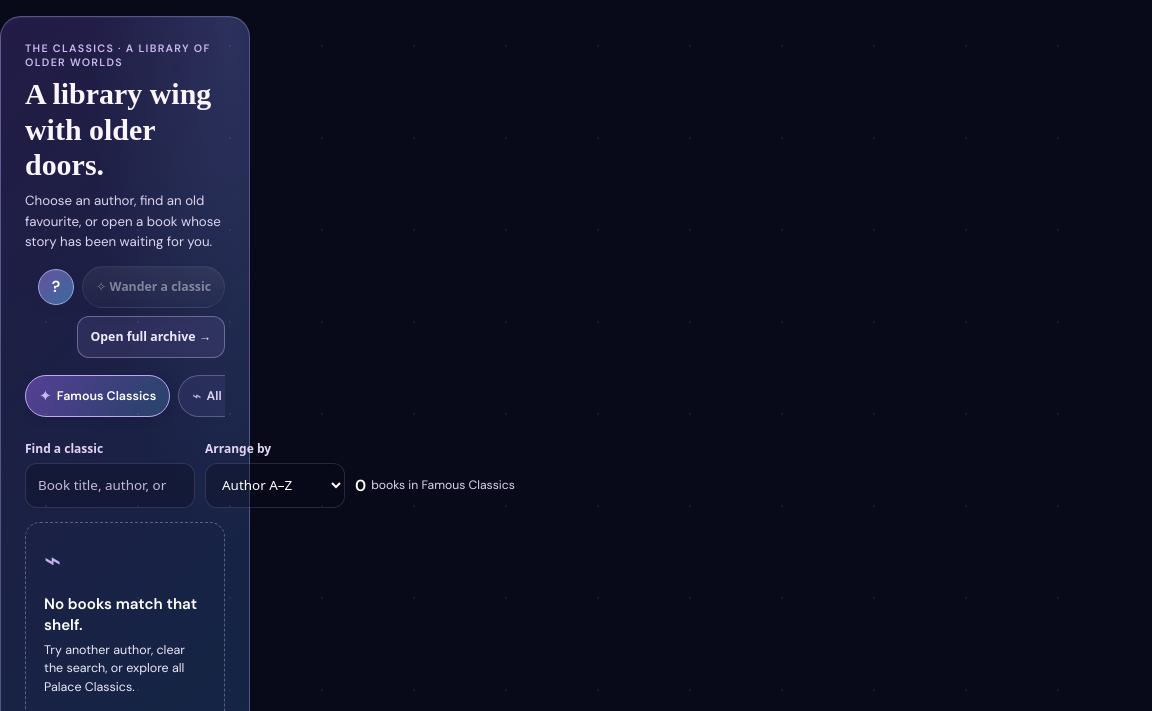
Test: Palace Classics library hall › keeps cover provenance and content-rating guidance hidden behind the question icon
Click the button named "About: About these Classic editions" at [56, 287], box [38,269,74,305]
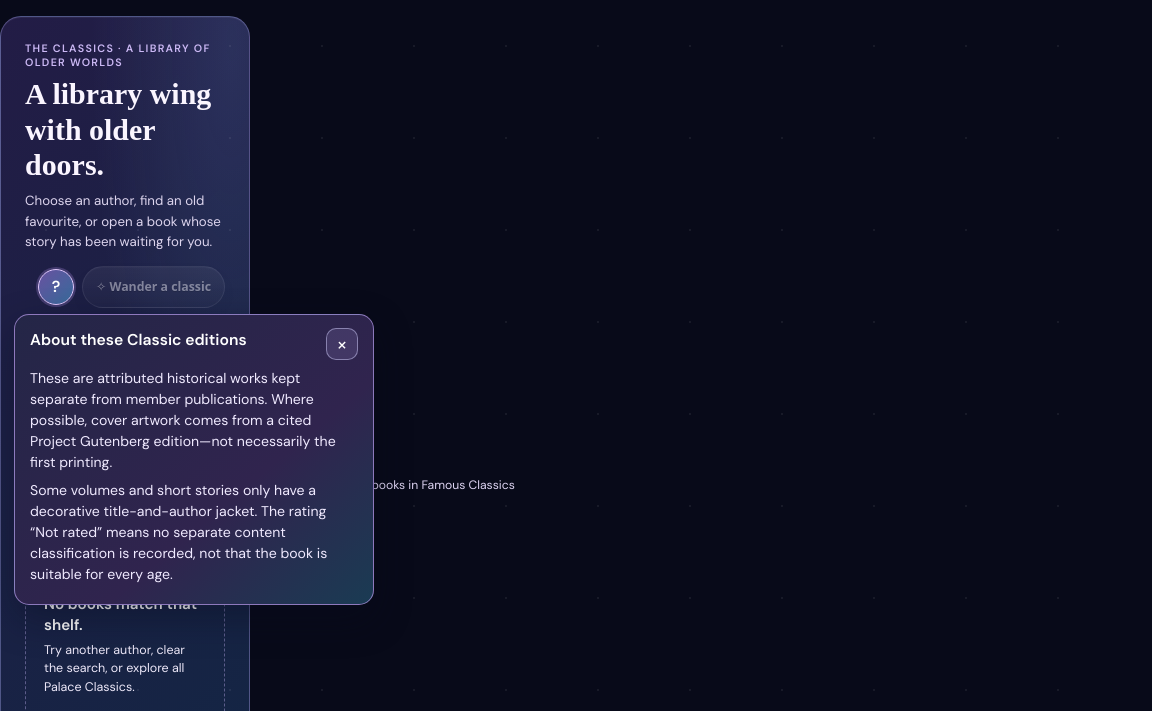
Now the text "not necessarily the first printing" is shown, box [30,369,336,471]
Now the text "means no separate content classification" is shown, box [30,480,327,583]
